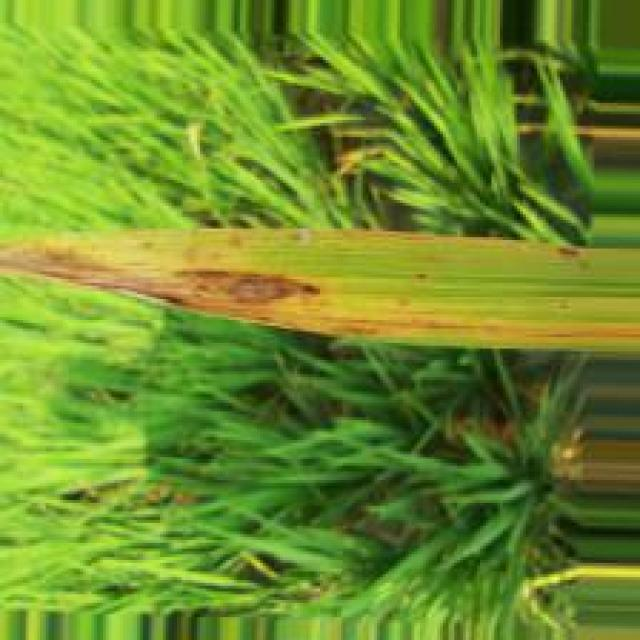Bacterial_Leaf_Blight: (4, 222, 640, 352)
